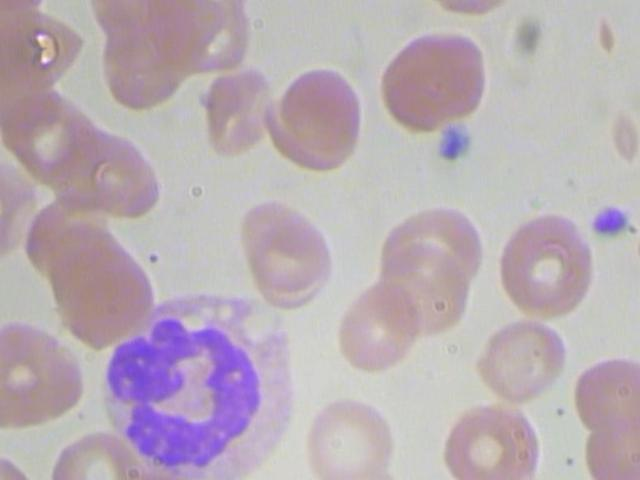Platelets: (72, 272, 330, 480), (10, 309, 96, 435)
RBC: (371, 22, 500, 143), (485, 204, 605, 333), (370, 230, 484, 349), (230, 186, 338, 307), (269, 52, 370, 167), (467, 311, 574, 413), (325, 275, 432, 377), (293, 391, 401, 480), (197, 62, 287, 165), (563, 340, 640, 435), (430, 392, 536, 461), (0, 321, 30, 447), (0, 441, 46, 480)
WBC: (36, 421, 149, 480)
